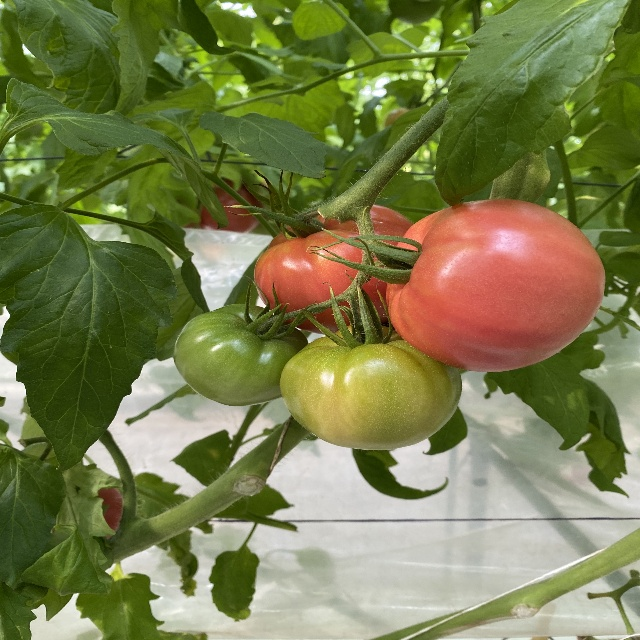b_fully_ripened: (385, 198, 607, 373)
b_green: (279, 322, 464, 451), (174, 303, 309, 407)
b_half_ripened: (255, 203, 416, 334)
